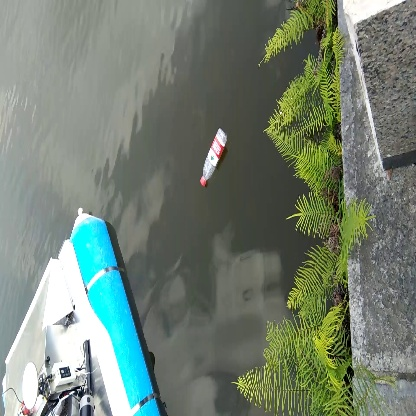bottle: (200, 129, 229, 188)
